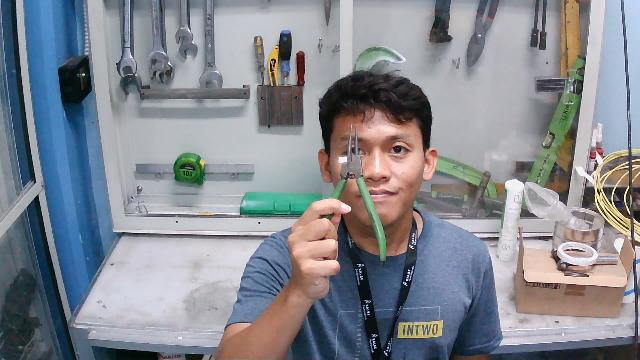tang_cucut_lancip_2: (314, 122, 389, 270)
